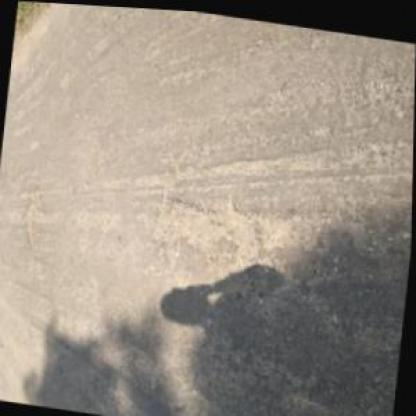pothole: (147, 186, 297, 277), (20, 183, 48, 248)
